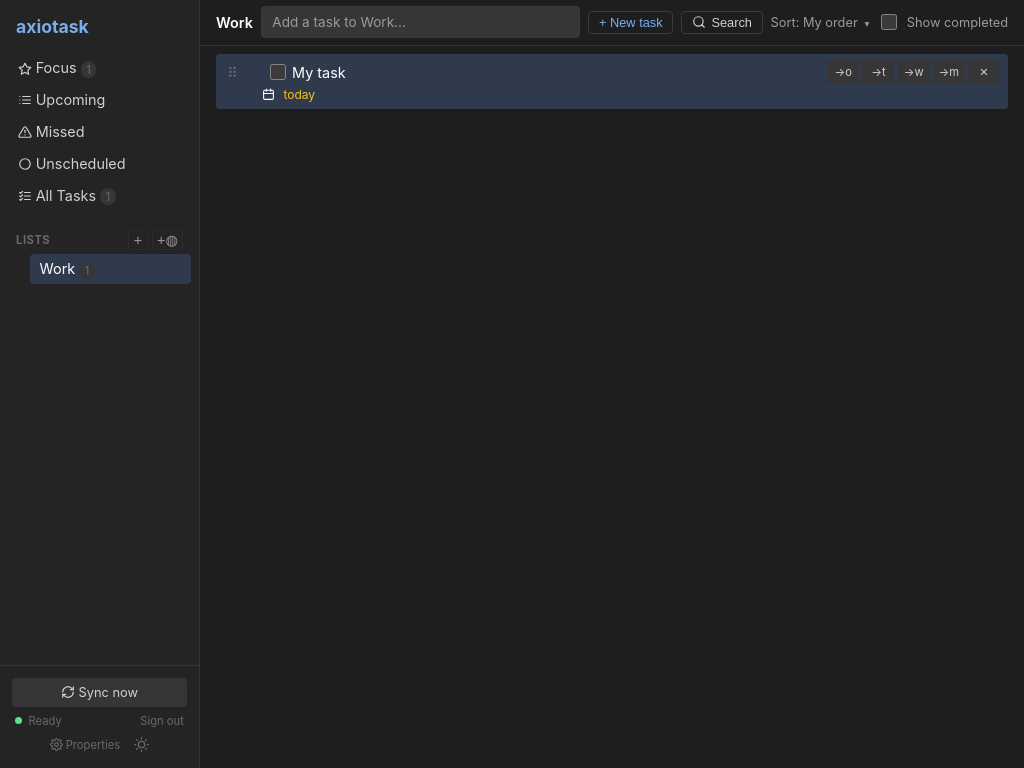
GH#11: Complete/uncomplete with undo › Checkbox toggle › clicking the checkbox completes the task, so its row leaves the open list
The image size is (1024, 768).
Expected: the text "My task" is shown, x1=292 y1=64 x2=346 y2=81
Click the checkbox with class "checkbox".
click(278, 72)  # box x1=270 y1=64 x2=286 y2=80
Wait 900 ms
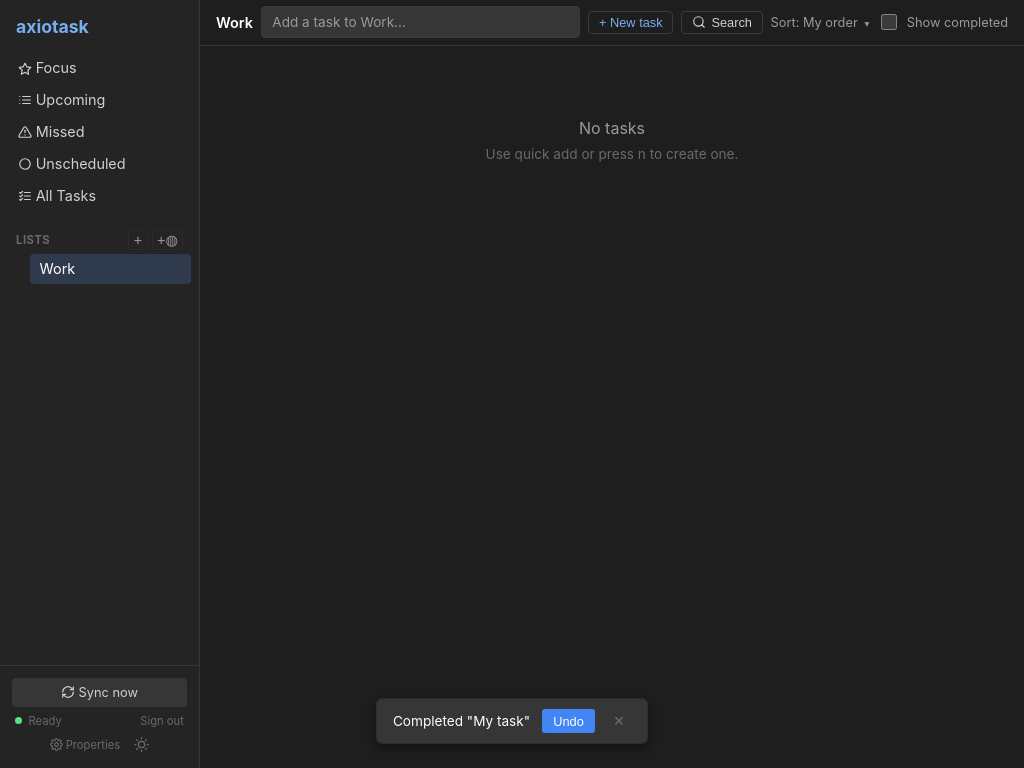
Expected: the text "Completed \"My task\"" is shown, x1=393 y1=713 x2=530 y2=729
